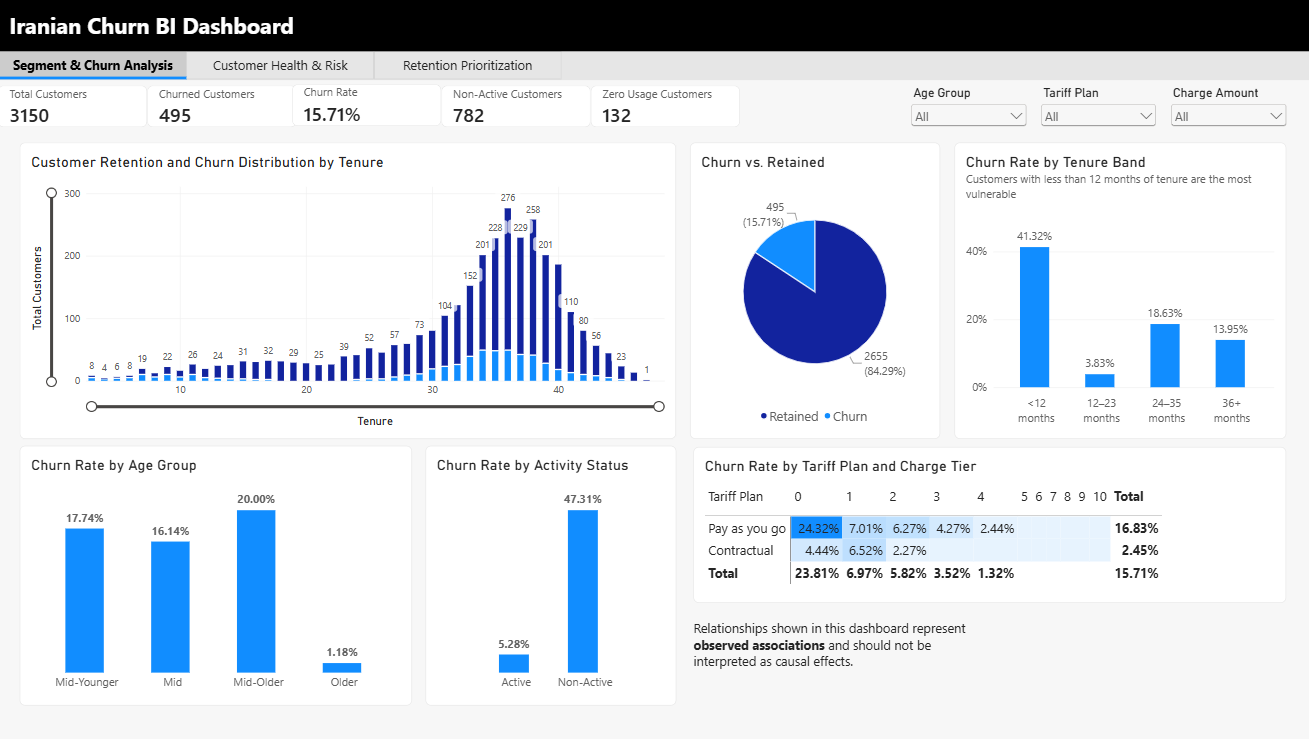

The dashboard page shown, as its layout file describes it:
{"tool":"powerbi","page":{"name":"Segment & Churn Analysis","canvas":[1920,1080],"ordinal":0},"visuals":[{"type":"group","id":"g1","title":"Group 2","box":[0,75,1918.3,43],"z":0,"group":"g3"},{"type":"cardVisual","fields":{"Data":["public customer_health_analytics.Total Customers"]},"box":[0,124.7,218,61],"z":0},{"type":"group","id":"g2","title":"Group 3","box":[1.7,0,1918.3,75],"z":1000,"group":"g3"},{"type":"cardVisual","fields":{"Data":["public customer_health_analytics.Churned Customers"]},"box":[218.7,124.7,218,61],"z":1000},{"type":"cardVisual","fields":{"Data":["public customer_health_analytics.Churn Rate"]},"box":[429.6,123.2,218,61],"z":2000},{"type":"cardVisual","fields":{"Data":["public customer_health_analytics.Non-Active Customers"]},"box":[648.3,124.8,218,61],"z":3000},{"type":"cardVisual","fields":{"Data":["public customer_health_analytics.Zero Usage Customers"]},"box":[866.7,124.8,218,61.4],"z":4000},{"type":"shape","title":"csacasc","box":[1.7,0,1918.3,75],"z":5000,"group":"g2"},{"type":"lineStackedColumnComboChart","title":"Customer Retention and Churn Distribution by Tenure","fields":{"Category":["public customer_health_analytics.subscription_length"],"Y":["public customer_health_analytics.Total Churn","public customer_health_analytics.Total Retained"]},"box":[31.7,208,960,433.3],"z":5000},{"type":"shape","box":[0,75.5,1918.3,42.5],"z":6000,"group":"g1"},{"type":"clusteredColumnChart","title":"Churn Rate by Tenure Band","fields":{"Category":["public customer_health_analytics.tenure_band"],"Y":["public customer_health_analytics.Churn Rate"]},"box":[1398.3,208,485,433.3],"z":6000},{"type":"pieChart","title":"Churn vs. Retained","fields":{"Category":["public customer_health_analytics.Churn Status"],"Y":["public customer_health_analytics.Total Customers"]},"box":[1011,208,366,433.3],"z":7000},{"type":"clusteredColumnChart","title":"Churn Rate by Activity Status","fields":{"Category":["public customer_health_analytics.Activity Status"],"Y":["public customer_health_analytics.Churn Rate"]},"box":[625,651.7,366.7,380],"z":8000},{"type":"clusteredColumnChart","title":"Churn Rate by Age Group","fields":{"Category":["public customer_health_analytics.Age Group"],"Y":["public customer_health_analytics.Churn Rate"]},"box":[31.7,651.3,573.3,380],"z":9000},{"type":"slicer","fields":{"Values":["public customer_health_analytics.Tariff Plan"]},"box":[1520,125,178,66.7],"z":10000},{"type":"slicer","fields":{"Values":["public customer_health_analytics.Age Group"]},"box":[1330,125,178.3,66.7],"z":11000},{"type":"group","id":"g3","title":"Group 4","box":[0,0,1920,118],"z":12000},{"type":"slicer","title":"Charge Amount","fields":{"Values":["public customer_health_analytics.charge_amount"]},"box":[1710,125,178.3,66],"z":13000},{"type":"pageNavigator","box":[1.7,75,823.3,41.7],"z":14000,"group":"g1"},{"type":"pivotTable","title":"Churn Rate by Tariff Plan and Charge Tier","fields":{"Columns":["public customer_health_analytics.charge_amount"],"Rows":["public customer_health_analytics.Tariff Plan"],"Values":["public customer_health_analytics.Churn Rate"]},"box":[1016.7,653.3,866.7,228.3],"z":14000},{"type":"textbox","box":[1016.7,905,433.3,126.7],"z":15000},{"type":"textbox","box":[16.7,15,438.3,46.7],"z":15002,"group":"g2"}]}

Visuals, with their boxes on the page's 1920x1080 design canvas (x1, y1, x2, y2). These are canvas units, not pixel positions in the 1309x739 screenshot, which may show the page scaled, cropped or inside an application window:
"Group 2" group: [x1=0, y1=75, x2=1918, y2=118]
cardVisual - public customer_health_analytics.Total Customers: [x1=0, y1=125, x2=218, y2=186]
"Group 3" group: [x1=2, y1=0, x2=1920, y2=75]
cardVisual - public customer_health_analytics.Churned Customers: [x1=219, y1=125, x2=437, y2=186]
cardVisual - public customer_health_analytics.Churn Rate: [x1=430, y1=123, x2=648, y2=184]
cardVisual - public customer_health_analytics.Non-Active Customers: [x1=648, y1=125, x2=866, y2=186]
cardVisual - public customer_health_analytics.Zero Usage Customers: [x1=867, y1=125, x2=1085, y2=186]
"csacasc" shape: [x1=2, y1=0, x2=1920, y2=75]
"Customer Retention and Churn Distribution by Tenure" lineStackedColumnComboChart: [x1=32, y1=208, x2=992, y2=641]
shape: [x1=0, y1=76, x2=1918, y2=118]
"Churn Rate by Tenure Band" clusteredColumnChart: [x1=1398, y1=208, x2=1883, y2=641]
"Churn vs. Retained" pieChart: [x1=1011, y1=208, x2=1377, y2=641]
"Churn Rate by Activity Status" clusteredColumnChart: [x1=625, y1=652, x2=992, y2=1032]
"Churn Rate by Age Group" clusteredColumnChart: [x1=32, y1=651, x2=605, y2=1031]
slicer - public customer_health_analytics.Tariff Plan: [x1=1520, y1=125, x2=1698, y2=192]
slicer - public customer_health_analytics.Age Group: [x1=1330, y1=125, x2=1508, y2=192]
"Group 4" group: [x1=0, y1=0, x2=1920, y2=118]
"Charge Amount" slicer: [x1=1710, y1=125, x2=1888, y2=191]
pageNavigator: [x1=2, y1=75, x2=825, y2=117]
"Churn Rate by Tariff Plan and Charge Tier" pivotTable: [x1=1017, y1=653, x2=1883, y2=882]
textbox: [x1=1017, y1=905, x2=1450, y2=1032]
textbox: [x1=17, y1=15, x2=455, y2=62]
